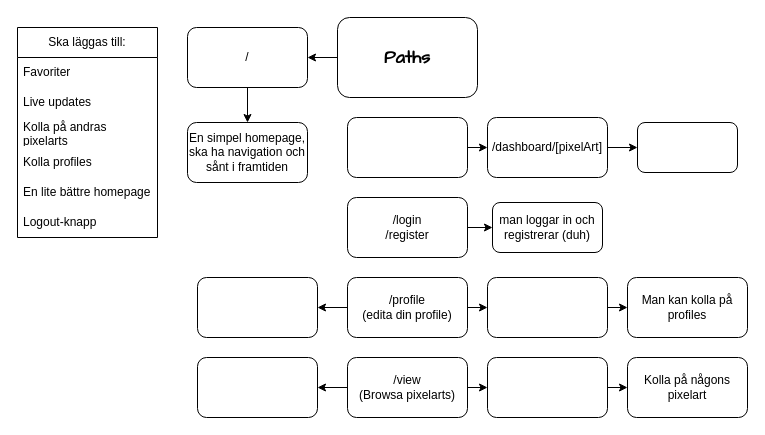
This 765x435 diagram has some shape labels left out. The centre of each missing label's shape, as x and y in pixels:
/dashboard (Kolla på dina pixelarts samt skapa nya): pixel 407 147
/profile/[user]: pixel 547 307
/view/[pixelArt]: pixel 547 387
Denna path saknar för tillfället funktionalitet: pixel 257 387
dynamisk route för att ändra på olika pixelarts: pixel 687 147
Saknar för tillfället funktionalitet: pixel 257 307
